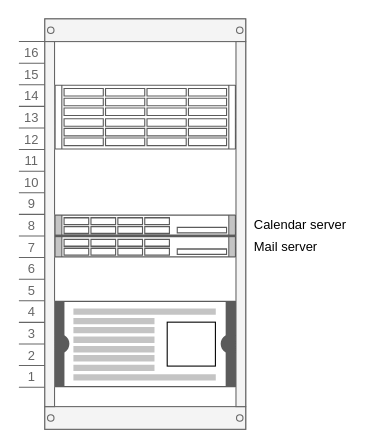
Image size: 365x448. Some labels were removed from this diagram. Each missing label, with the centre of its shape:
Storage: pixel 144 117
UPS: pixel 144 343
